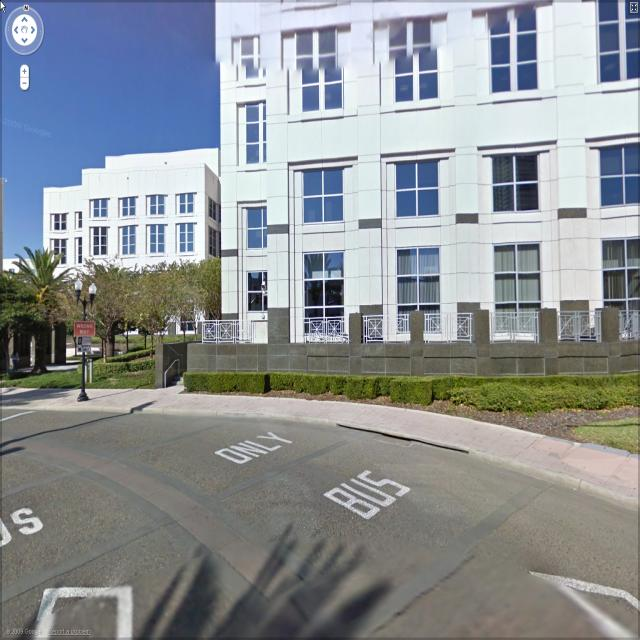window: (382, 22, 448, 116), (484, 7, 552, 95), (292, 255, 355, 346), (290, 29, 348, 121), (495, 248, 545, 333), (597, 237, 640, 334), (392, 249, 444, 328), (598, 7, 638, 99), (387, 164, 451, 214), (489, 154, 549, 207), (295, 168, 351, 223), (596, 146, 640, 212), (236, 101, 270, 178), (243, 209, 277, 255), (240, 40, 270, 86), (91, 223, 115, 260), (148, 224, 172, 260), (177, 224, 199, 256), (176, 189, 196, 220), (150, 190, 170, 220), (116, 197, 142, 219), (120, 228, 138, 257), (52, 240, 70, 268), (50, 209, 70, 234), (90, 196, 108, 219)
